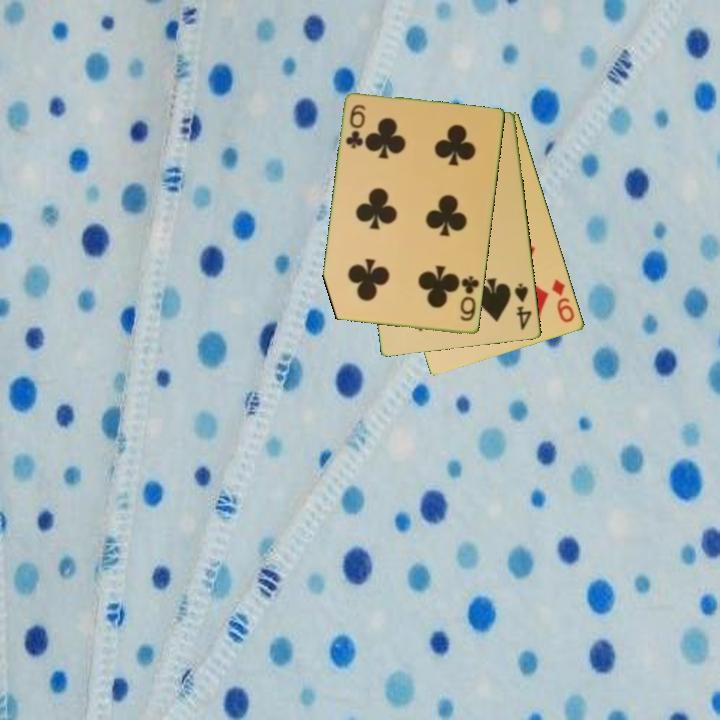4s: (511, 280, 535, 333)
6c: (342, 101, 369, 152), (457, 272, 482, 325)
9d: (548, 275, 578, 326)
